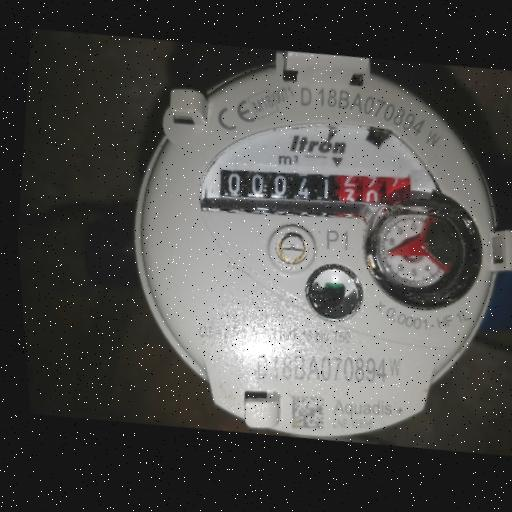0: (221, 168, 248, 200), (267, 170, 293, 201), (245, 170, 270, 200)
1: (313, 173, 337, 203)
2: (336, 174, 361, 204)
4: (290, 171, 316, 203)
9: (381, 171, 415, 209), (358, 175, 384, 205)
border_water_meter_number: (215, 147, 416, 229)
